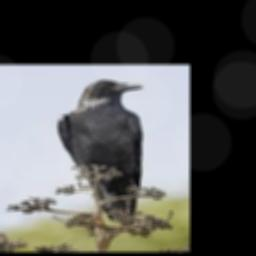Crow: (58, 80, 143, 227)
